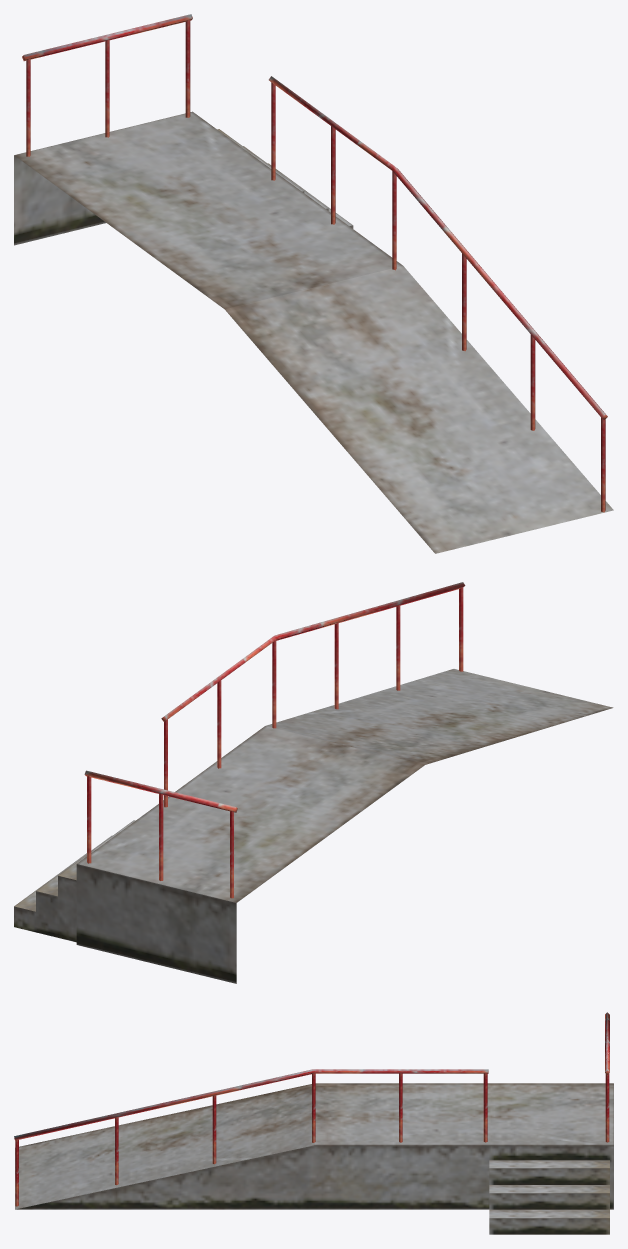
The model's file is rampRight.fbx.
3 views of the same model, one above another, from view 1: azimuth 30°, elevation 25°; view 2: azimuth 150°, elevation 25°; view 3: azimuth 270°, elevation 25° (orthographic). The views are drawn at different scales.
Parts seen in each view (by area): view 1: rampRight, railingMain, railingBack; view 2: rampRight, railingMain, stepsRight, railingBack; view 3: rampRight, stepsRight, railingMain, railingBack.
Part boxes in pixels (x1,y1,x2,y2): rampRight: [14, 111, 613, 553]; railingMain: [268, 76, 607, 512]; railingBack: [22, 14, 192, 156]; rampRight: [76, 669, 613, 983]; railingMain: [161, 582, 465, 807]; stepsRight: [14, 820, 135, 942]; railingBack: [84, 770, 237, 898]; rampRight: [15, 1083, 613, 1209]; stepsRight: [489, 1160, 609, 1234]; railingMain: [14, 1069, 488, 1206]; railingBack: [605, 1012, 609, 1142].
Bounding box in the file's own units: 2912 × 2134 × 8468.
